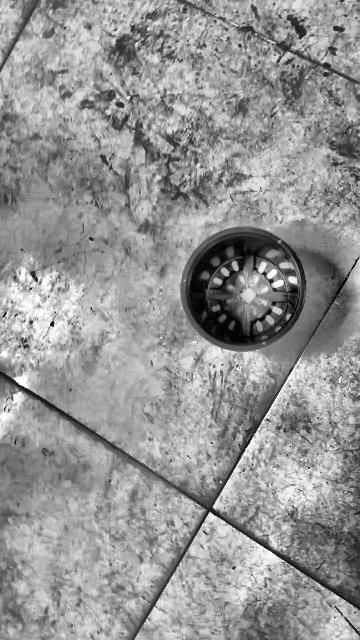pot: (181, 227, 306, 350)
